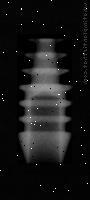Bicon: (17, 34, 72, 164)
